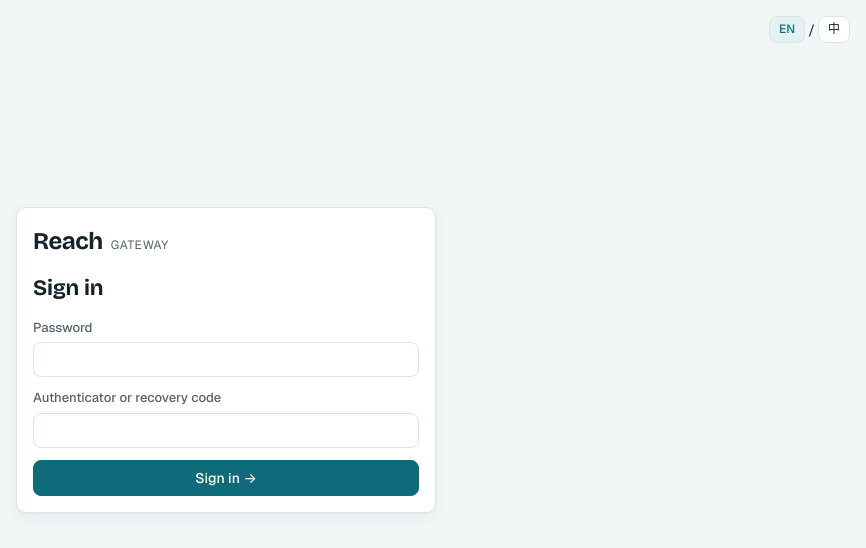
sign-in accepts recovery codes and displays generic failures
Step 1. Type "owner password" into the password field labelled "Password" → (226,360), box [33,342,419,377]
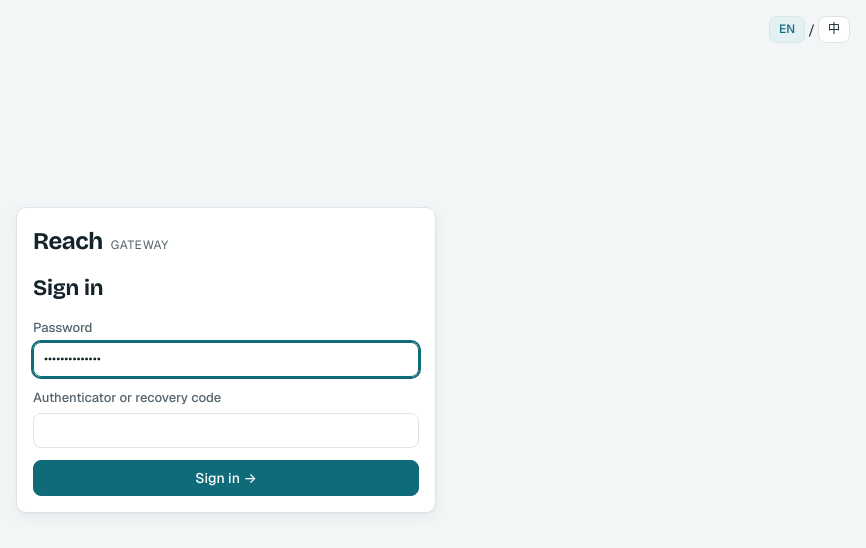
Step 2. Type "recovery01" into the field labelled "Authenticator or recovery code" → (226,430), box [33,413,419,448]
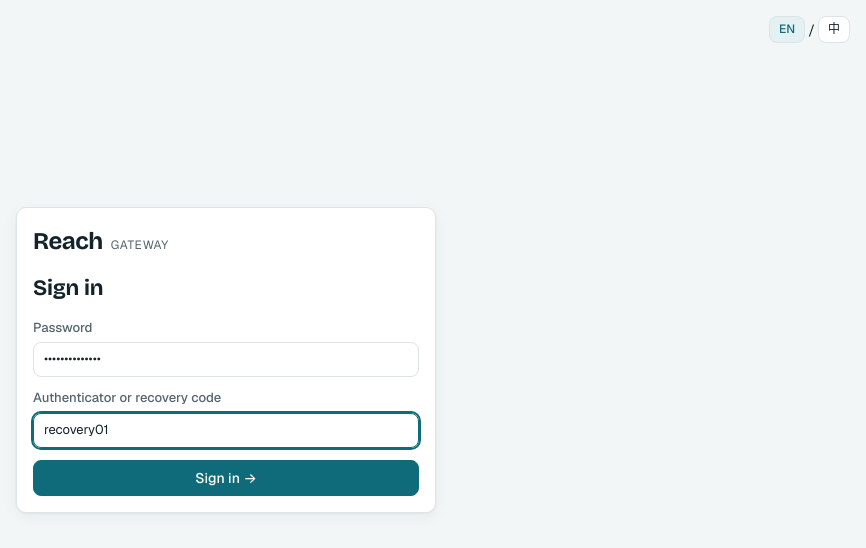
Step 3. Click the button "Sign in →" → (226,478), box [33,460,419,496]
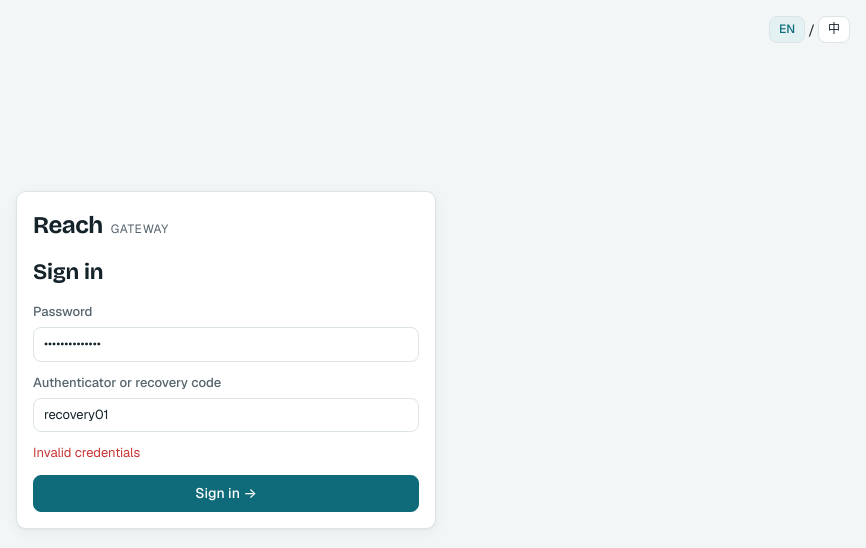
Now the message reads "Invalid credentials", box [33,444,140,462]
